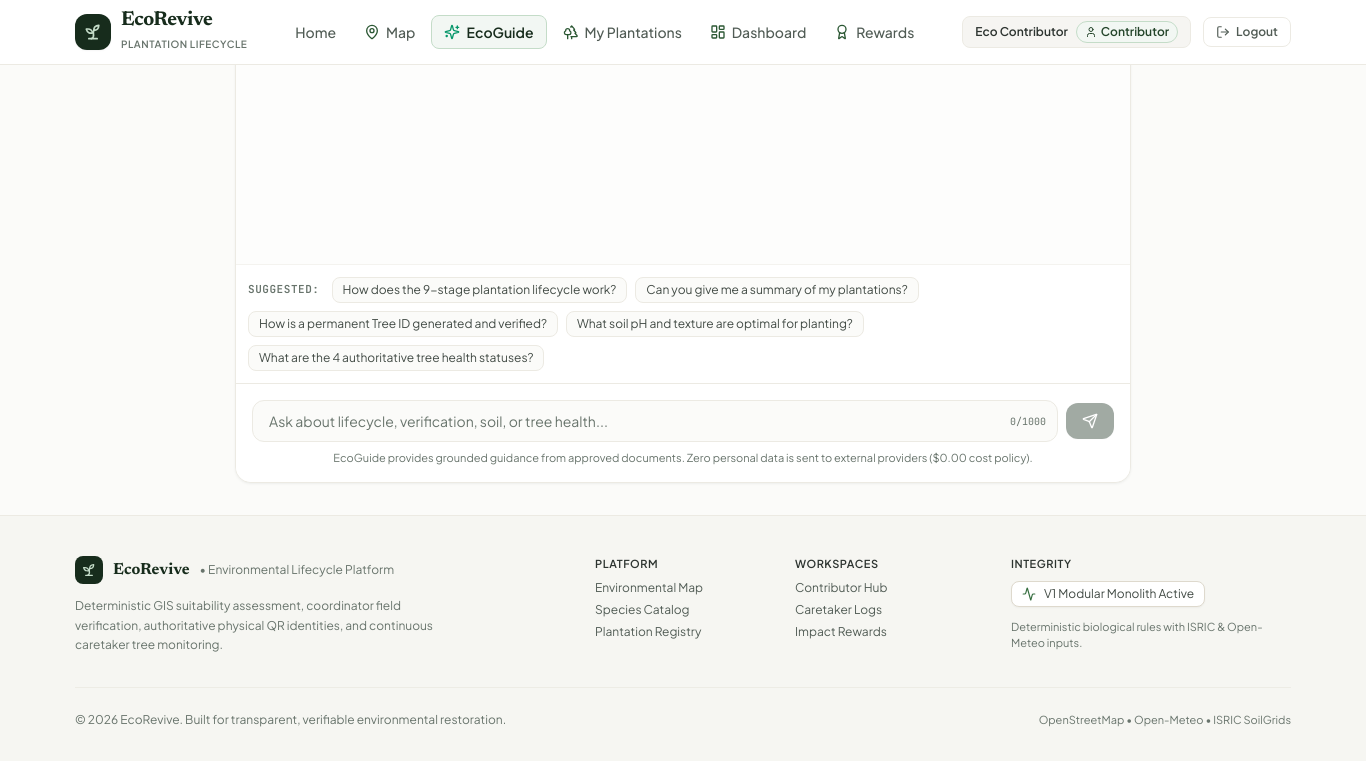
Test: Frontend V2-M2 — EcoGuide Knowledge Assistant › should display error alert with retry button when AI service fails
(page scrolled)
Type "Test error handling" into the field with test id "ecoguide-input".
click(655, 420); type("Test error handling")  # box [252, 400, 1058, 442]
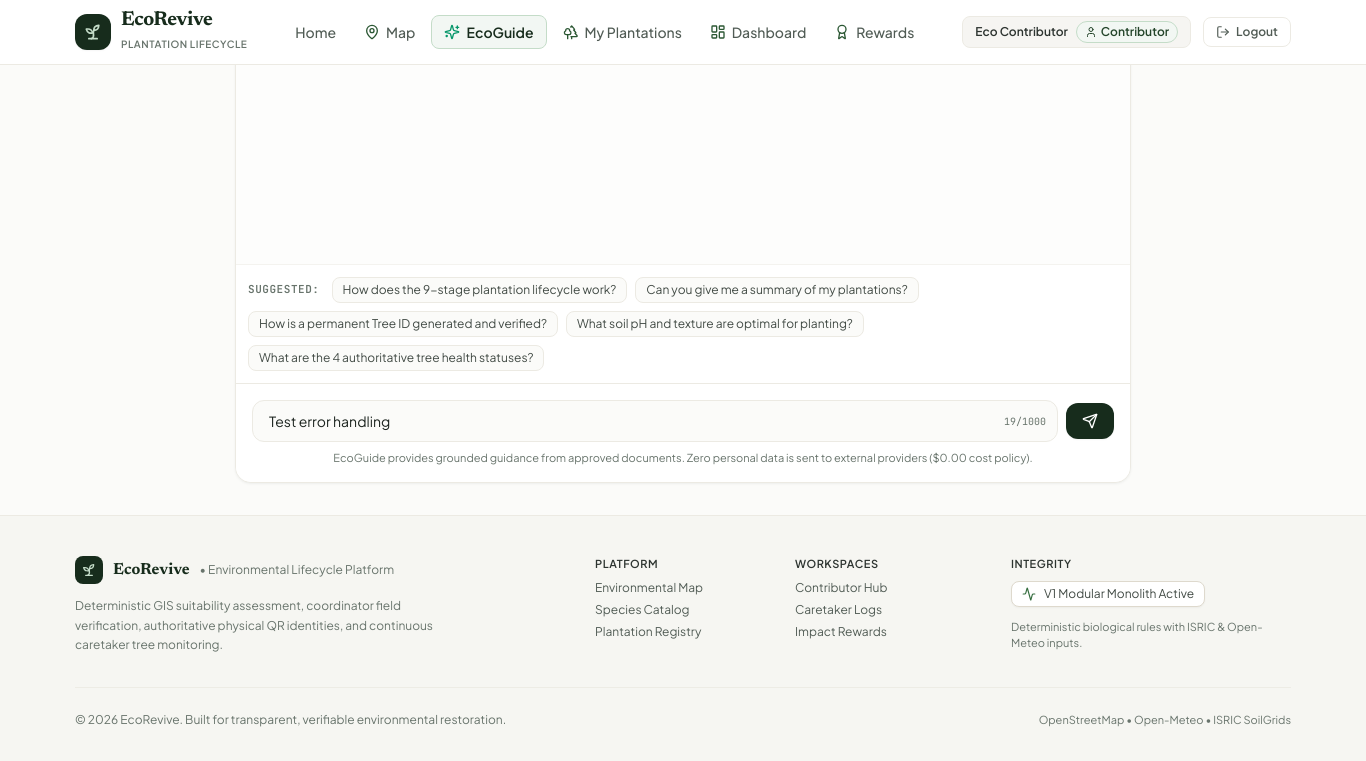
Click the button with test id "ecoguide-send".
click(1090, 420)  # box [1066, 402, 1114, 438]
(page scrolled)
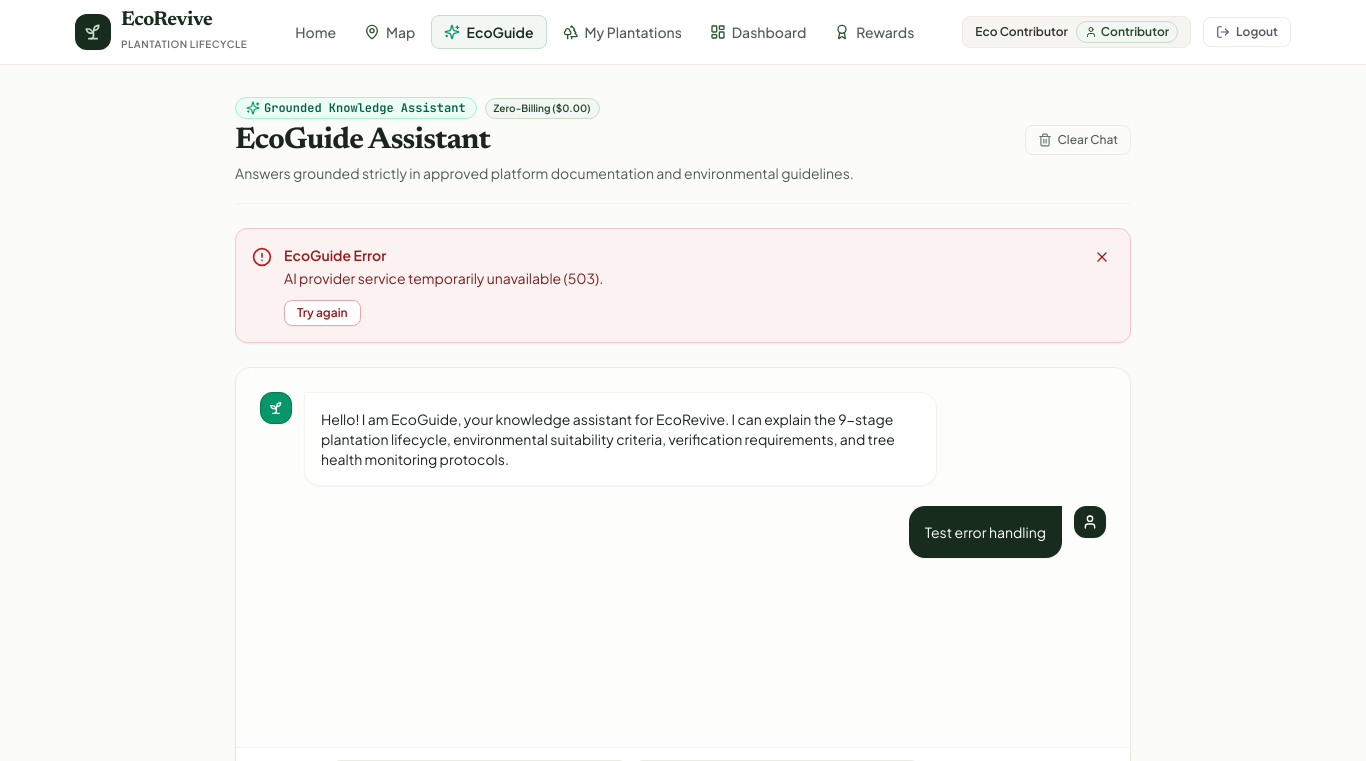
Now the text "AI provider service temporarily unavailable (503)." is shown, box [284, 269, 603, 287]
Now the button "Try again" is shown
Click the button "Try again".
click(322, 313)  # box [284, 300, 361, 326]
(page scrolled)
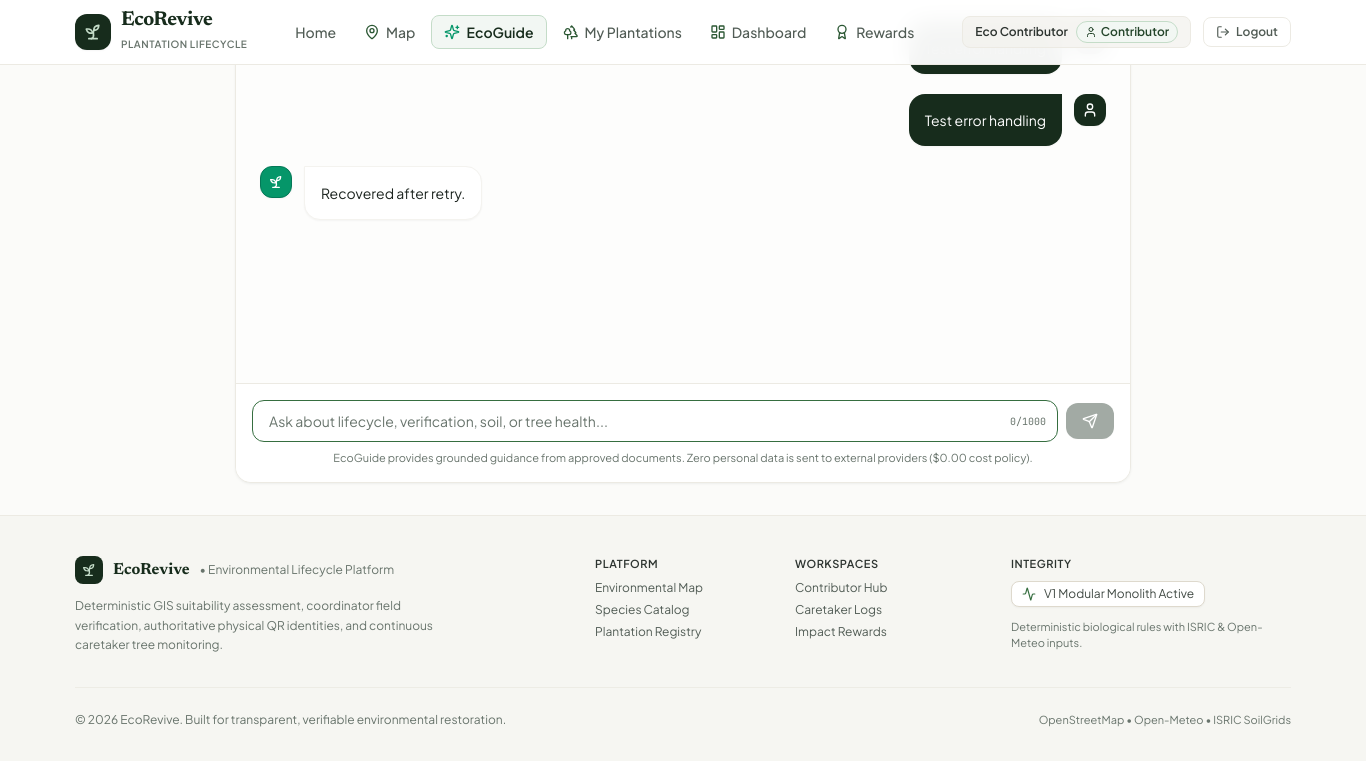
Now the text "Recovered after retry." is shown, box [321, 183, 465, 203]
